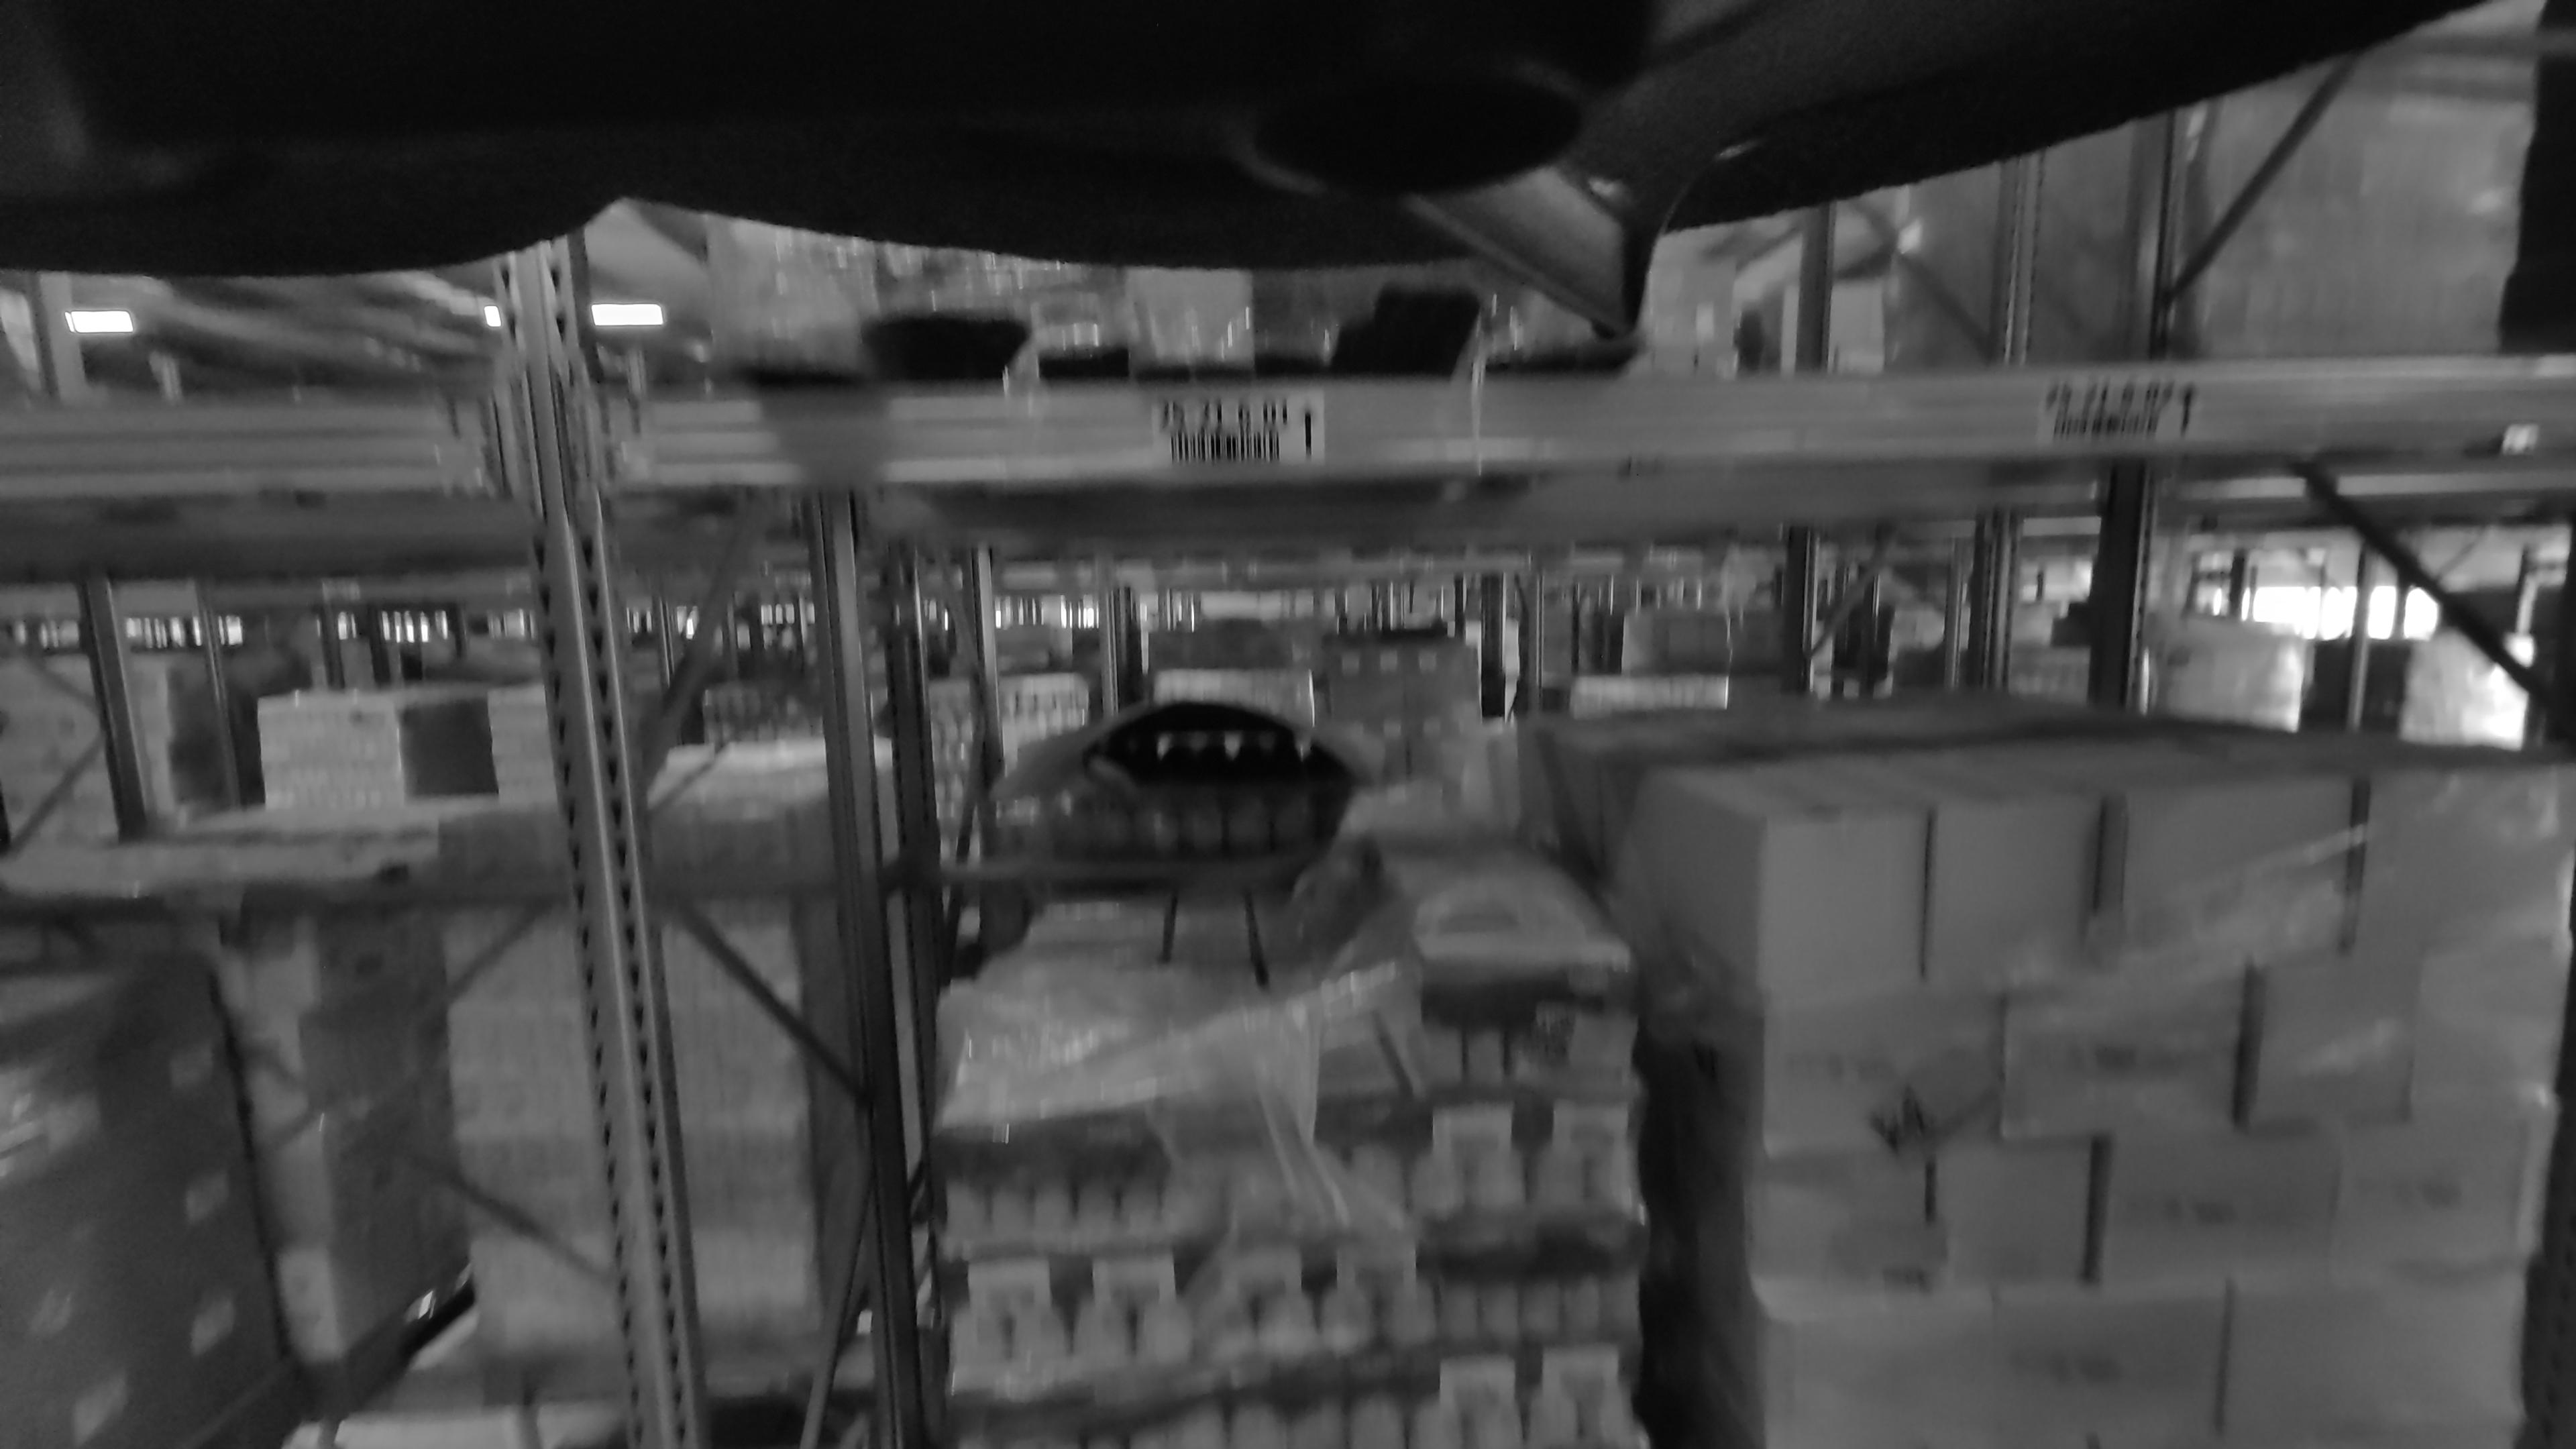empty-shelf: (154, 499, 600, 1449)
